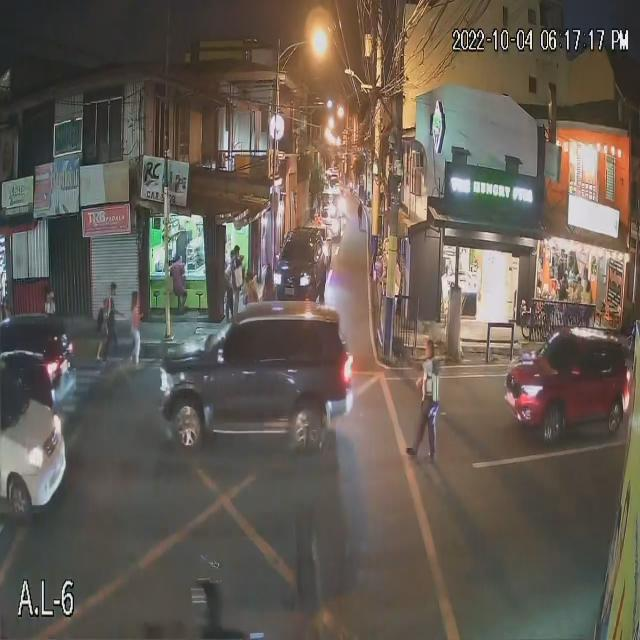helmet: (187, 572, 225, 619)
